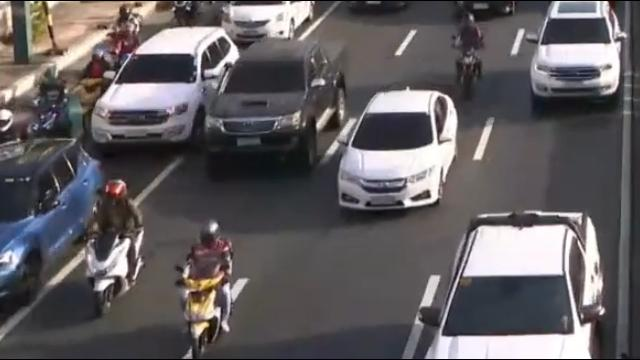car: (0, 133, 104, 308), (89, 27, 236, 147), (332, 87, 461, 213), (525, 0, 628, 107), (222, 0, 316, 43)
motorcycle: (174, 217, 237, 360), (88, 178, 144, 319), (25, 76, 74, 148), (78, 49, 115, 130), (452, 13, 485, 96), (113, 5, 145, 66), (169, 0, 213, 25)
pickup-truck: (414, 208, 604, 359), (203, 38, 349, 183)
